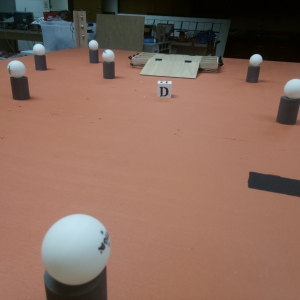blockD: (154, 80, 173, 98)
corner: (74, 12, 87, 49), (127, 50, 145, 68)
obstacle: (42, 213, 109, 300), (6, 59, 32, 101), (279, 76, 300, 116), (31, 43, 49, 72), (101, 50, 116, 80), (247, 54, 260, 83), (89, 40, 98, 64)
side: (203, 53, 223, 71)
slope: (141, 60, 199, 79)
start: (244, 166, 300, 199)
